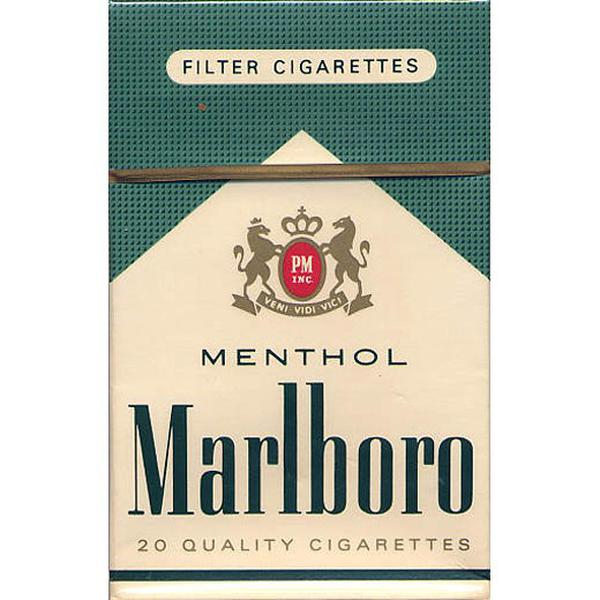marlboro_mentol: (112, 7, 490, 600)
